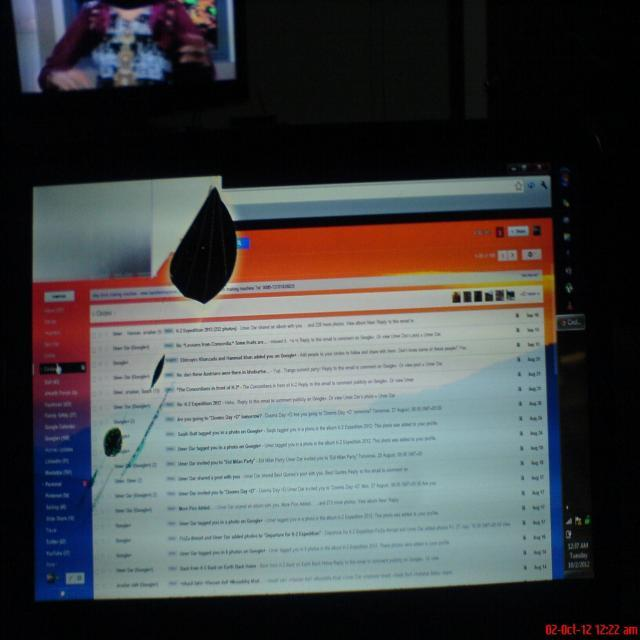Screen cracks: (158, 184, 256, 313)
